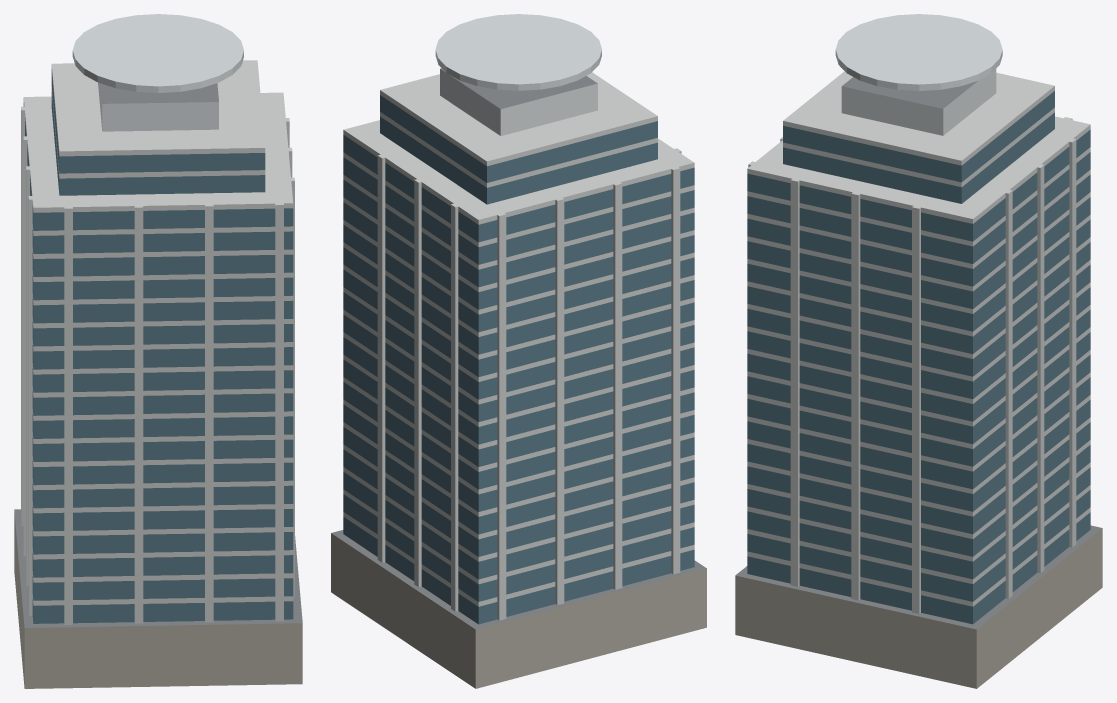
File: newport_lofts_w226572663.glb
3 views of the same model, side by side, from view 1: azimuth 30°, elevation 25°; view 2: azimuth 150°, elevation 25°; view 3: azimuth 270°, elevation 25° (orthographic). The views are drawn at different scales.
Parts seen in each view (by area): view 1: Tower; view 2: Tower; view 3: Tower.
Boxes of the visible parts, left/top/right/bottom form: Tower: left=14, top=14, right=302, bottom=688; Tower: left=331, top=14, right=706, bottom=688; Tower: left=735, top=14, right=1102, bottom=688.
Bounding box in the file's own units: 61.72 × 104 × 61.65.
